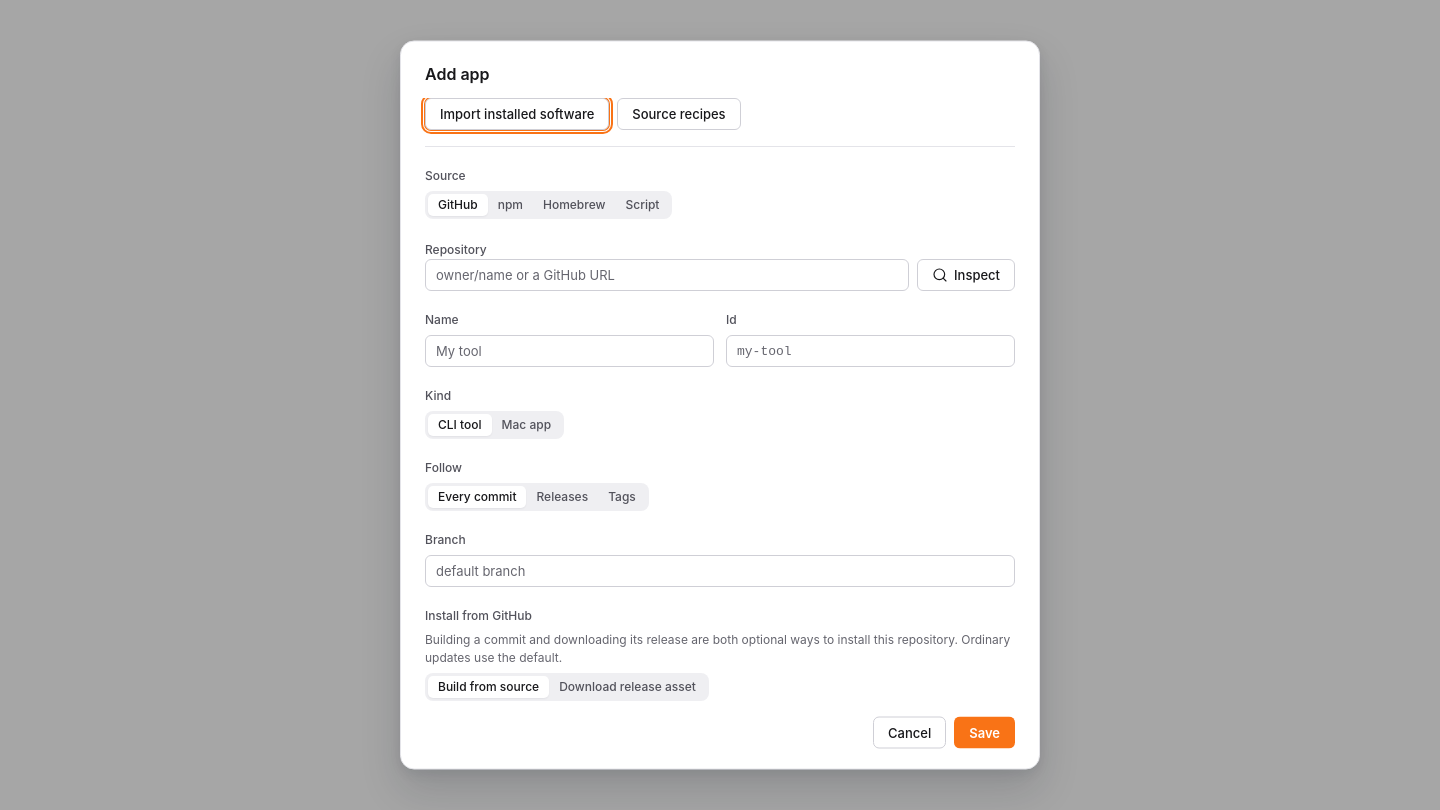
Test: switches a looked-up Homebrew cask to GitHub and immediately inspects it
The width and height of the screenshot is (1440, 810).
Click the button "Homebrew". click: (574, 204)
box: [533,194,616,216]
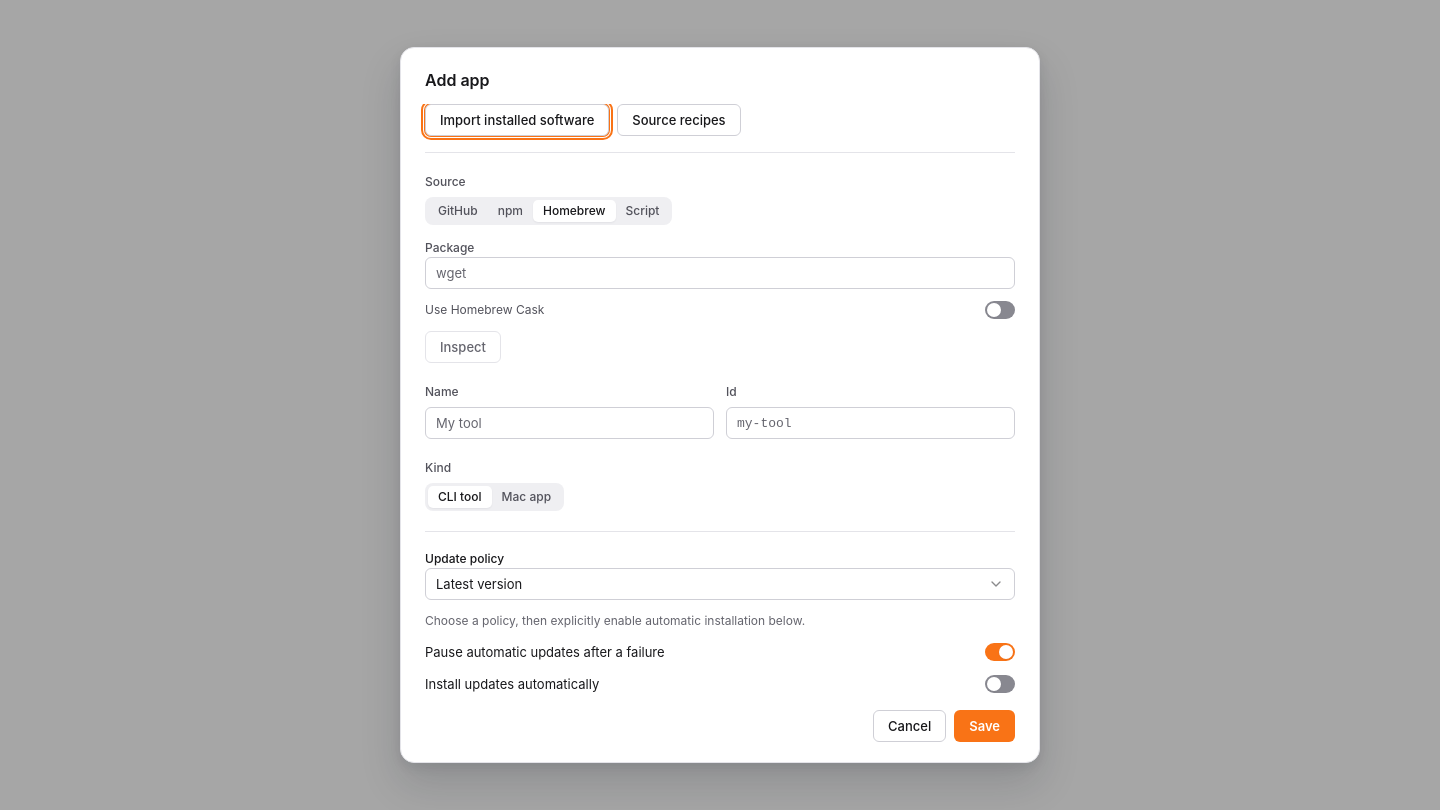
Type "editor" into the field labelled "Package". click: (720, 273)
box: [425,257,1015,289]
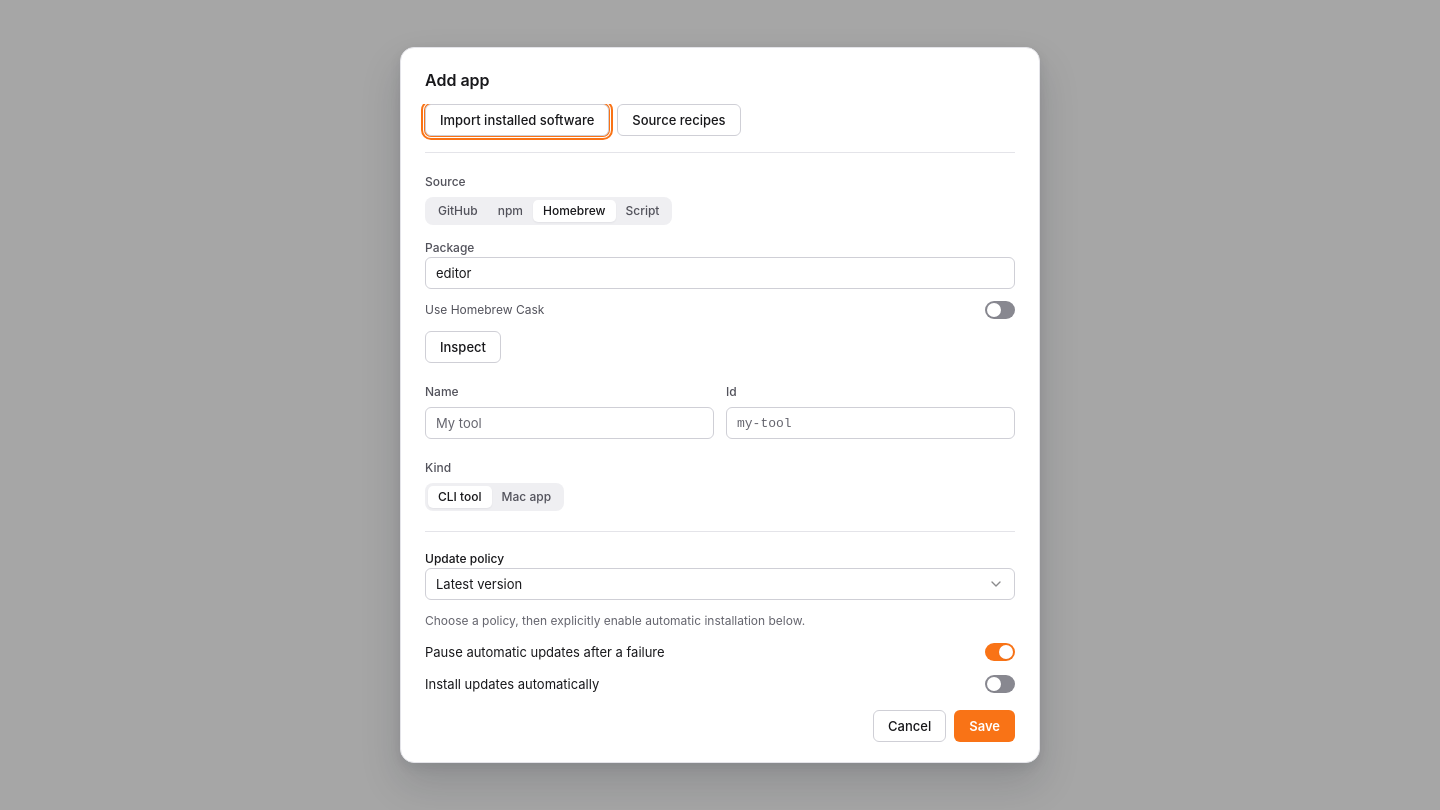
Click the switch named "Cask". click: (1000, 310)
box: [985,301,1015,319]
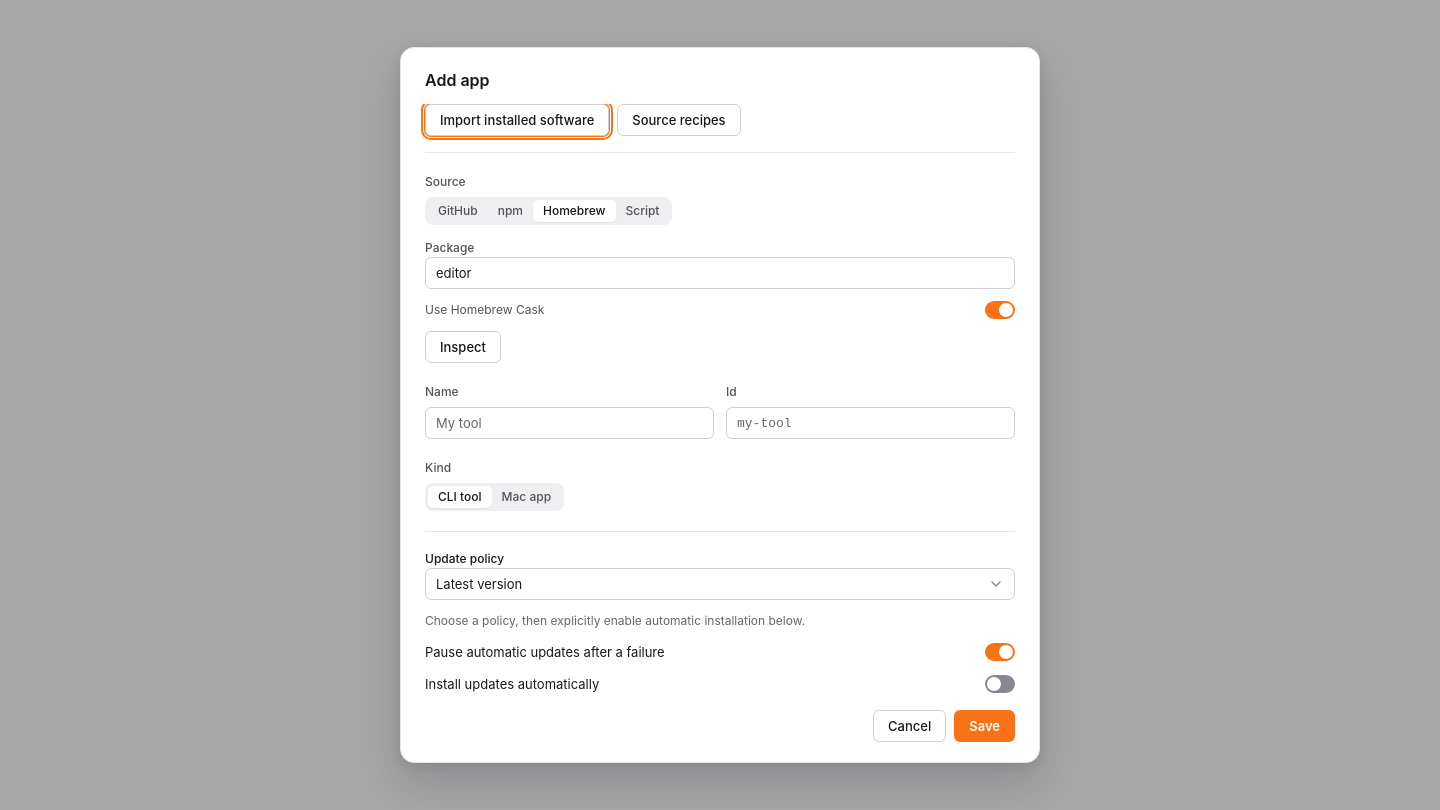
Click the button "Inspect". click: (463, 347)
box: [425,331,501,363]
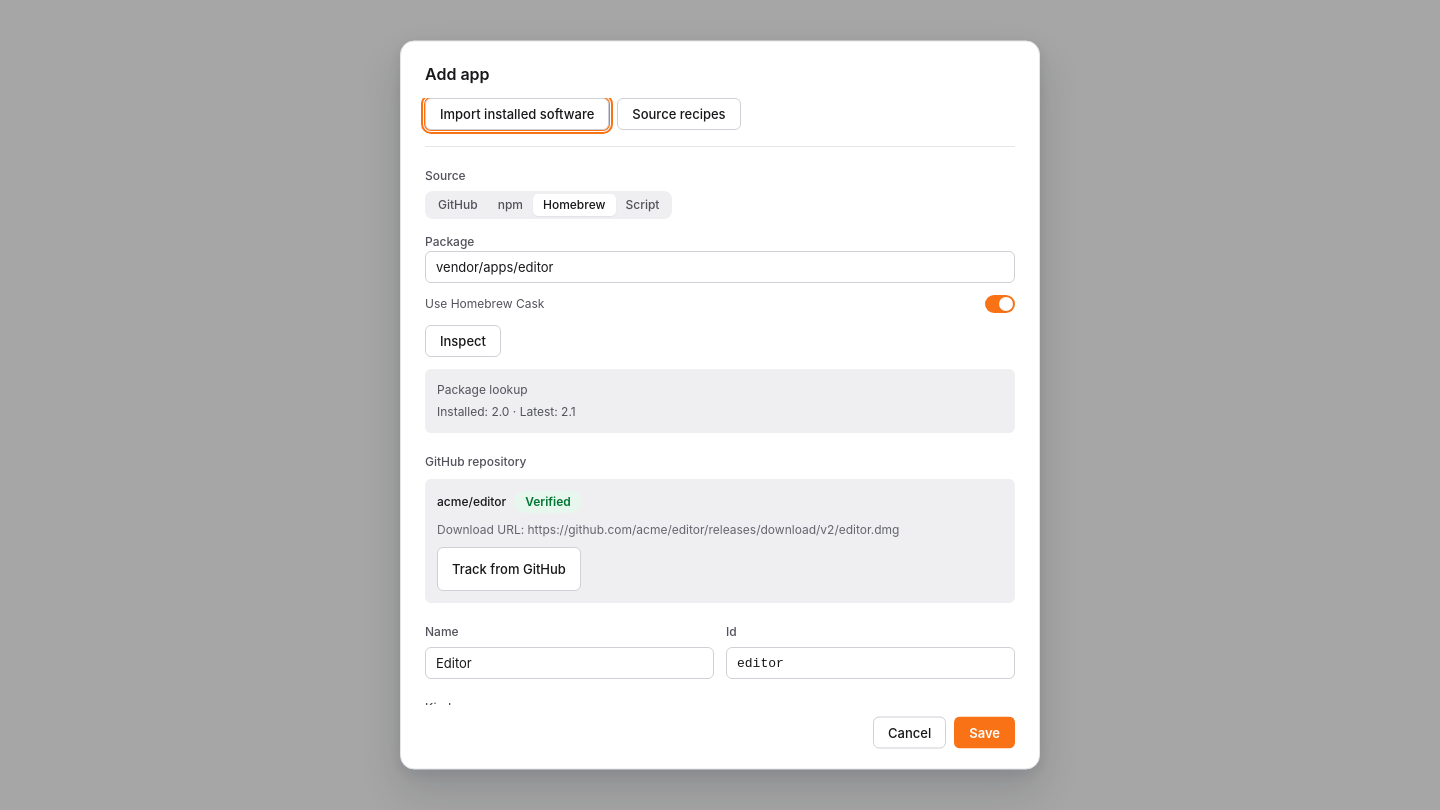
When the repository suggestion is chosen.
Click the button with aria-label "Track from GitHub: acme/editor". click: (509, 568)
box: [437,546,581,590]
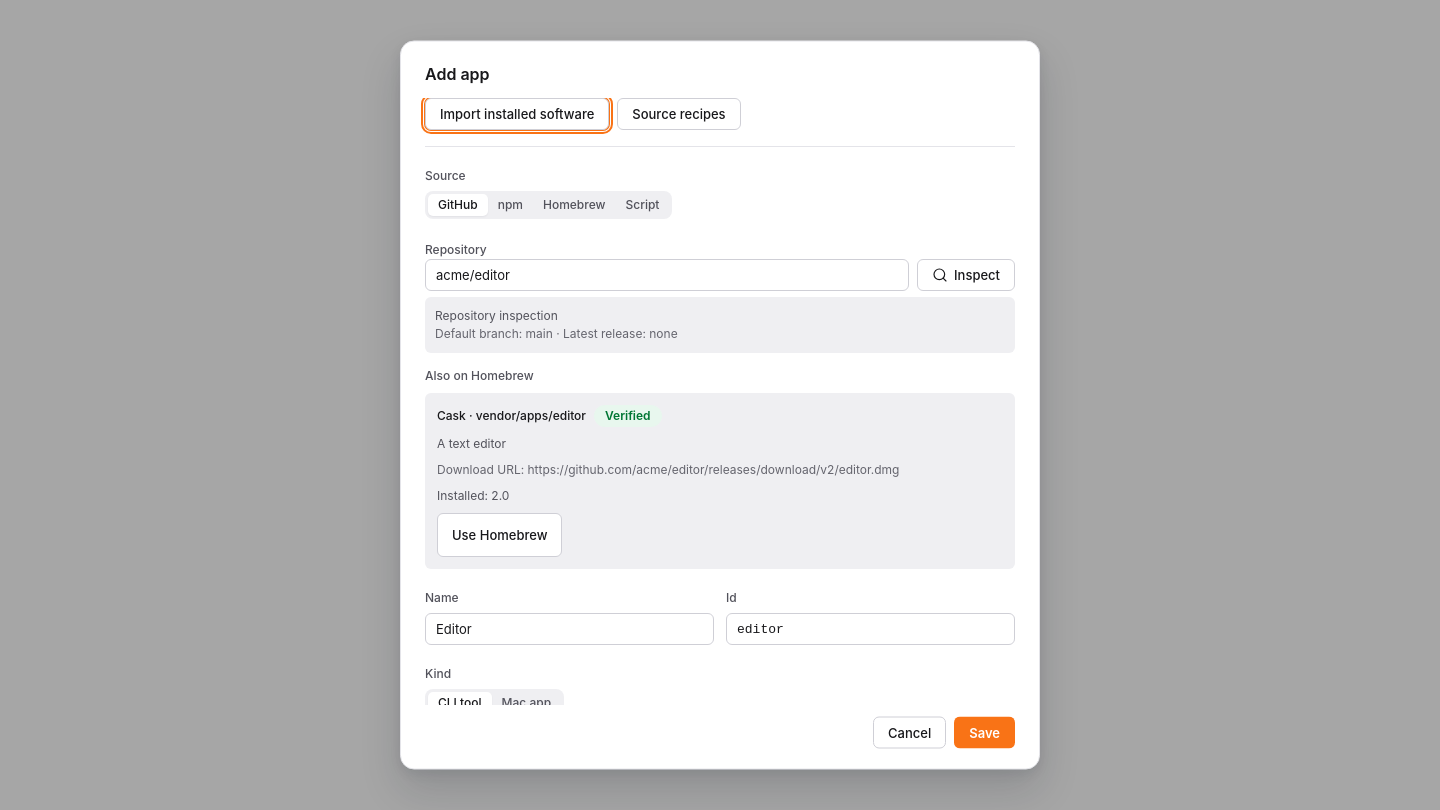
Expected: the field labelled "Repository" holds "acme/editor", [425,258,909,290]
Expected: the text "Repository inspection" is shown, [435,308,558,322]
Expected: the text "Package lookup" is gone
